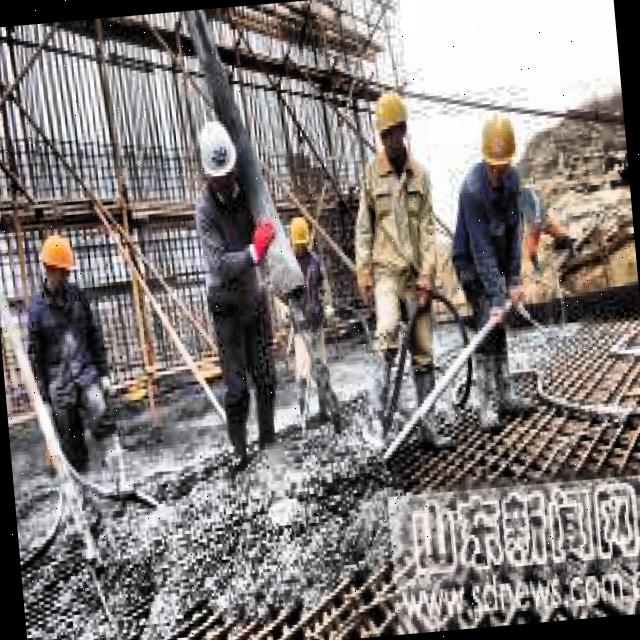helmet: (370, 84, 416, 168), (471, 108, 522, 182), (195, 116, 238, 190), (34, 230, 80, 298), (282, 210, 312, 264)
